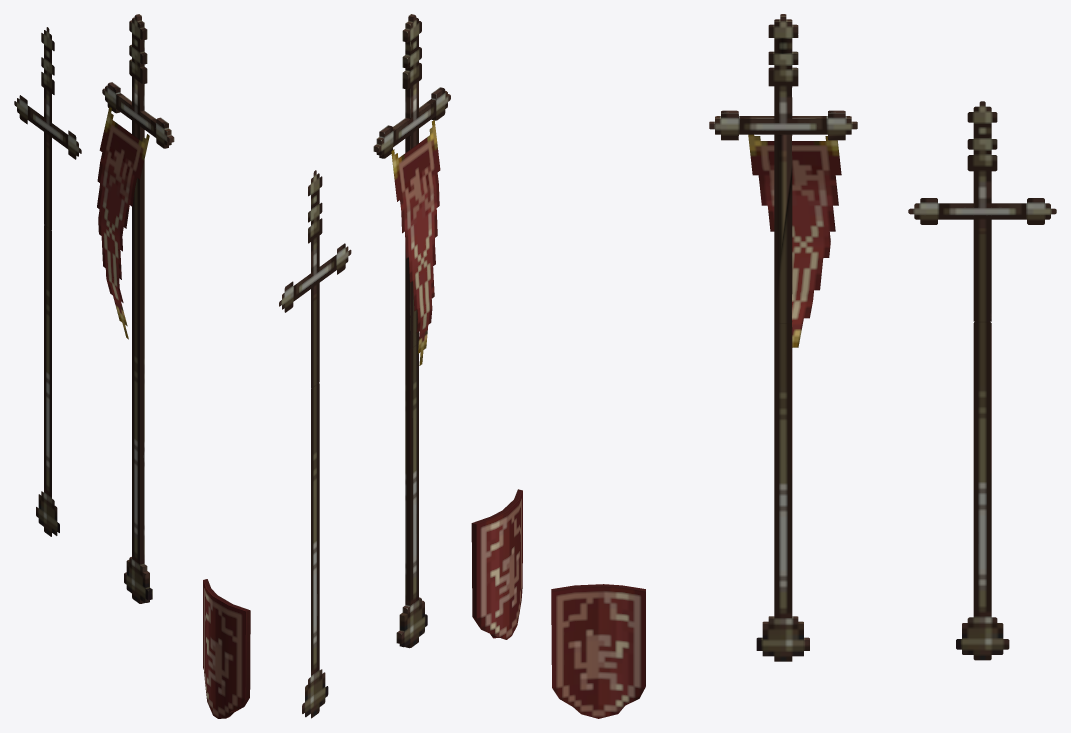
The model's file is ObjMD_Plain_Prop_A.FBX.
3 renders of one model, left to right at view 1: azimuth 30°, elevation 25°; view 2: azimuth 150°, elevation 25°; view 3: azimuth 270°, elevation 25°, orthographic. The views are drawn at different scales.
Visible parts, largest first — view 1: ObjMD_Plain_Prop_A, ObjMD_Plain_Prop_D, ObjMD_Plain_Prop_C; view 2: ObjMD_Plain_Prop_A, ObjMD_Plain_Prop_D, ObjMD_Plain_Prop_C; view 3: ObjMD_Plain_Prop_A, ObjMD_Plain_Prop_D, ObjMD_Plain_Prop_C.
Boxes of the visible parts, box(x1,y1,x2,y2) form: ObjMD_Plain_Prop_A: box(97, 14, 174, 603); ObjMD_Plain_Prop_D: box(14, 27, 81, 536); ObjMD_Plain_Prop_C: box(203, 579, 250, 718); ObjMD_Plain_Prop_A: box(373, 14, 450, 648); ObjMD_Plain_Prop_D: box(279, 170, 351, 718); ObjMD_Plain_Prop_C: box(471, 489, 522, 639); ObjMD_Plain_Prop_A: box(709, 14, 857, 661); ObjMD_Plain_Prop_D: box(908, 101, 1056, 660); ObjMD_Plain_Prop_C: box(551, 584, 645, 718).
Bounding box in the file's own units: 34.38 × 819 × 533.
